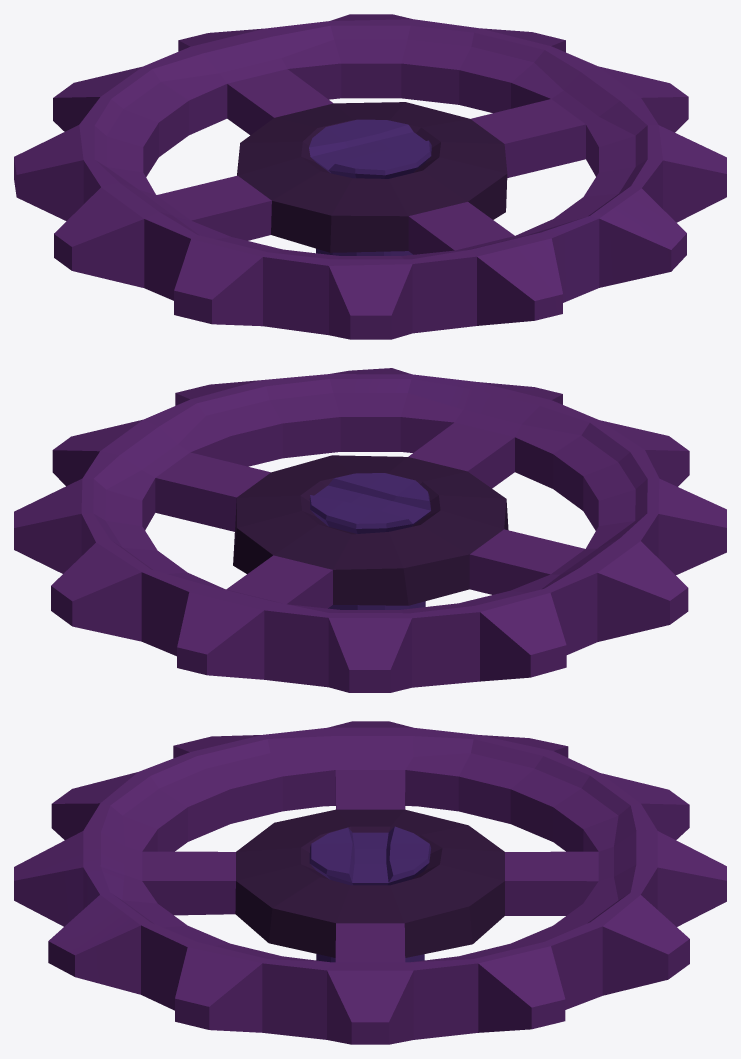
File: obj_gear06_alt.gltf
3 renders of one model, top to bottom at view 1: azimuth 30°, elevation 25°; view 2: azimuth 150°, elevation 25°; view 3: azimuth 270°, elevation 25°, orthographic.
Visible parts, largest first — view 1: obj_gear06_alt; view 2: obj_gear06_alt; view 3: obj_gear06_alt.
Boxes of the visible parts, x1=… form: obj_gear06_alt: x1=14, y1=14, x2=726, y2=339; obj_gear06_alt: x1=14, y1=368, x2=726, y2=692; obj_gear06_alt: x1=14, y1=721, x2=726, y2=1044.
Size of what is drawn, in the model's own units: 1.19 by 0.3018 by 1.19.
1 material, 1 textured.
